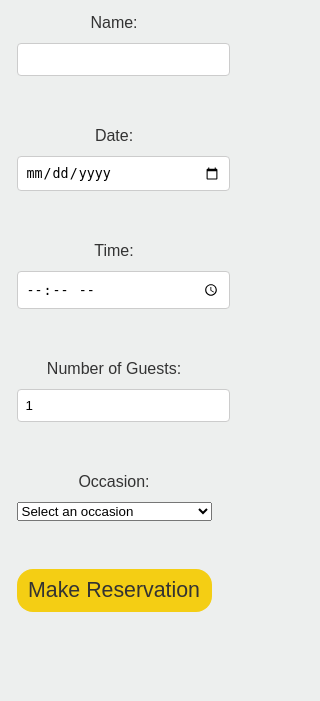
Scenario: ReservationForm › validates form submission with empty fields
The width and height of the screenshot is (320, 701).
Click the button "Make Reservation" at [114, 591], box x1=16 y1=569 x2=212 y2=612
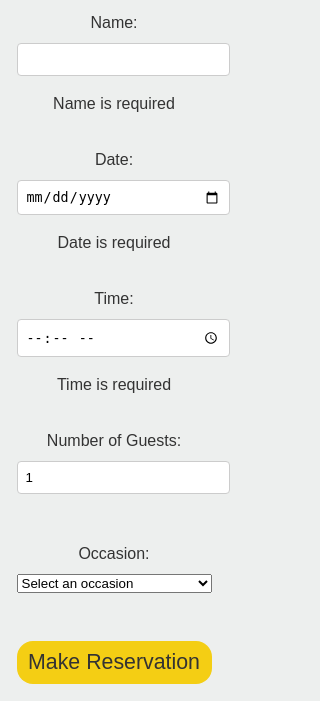
Result: the text "Name is required" is shown at x1=53 y1=95 x2=175 y2=112
Result: the text "Date is required" is shown at x1=58 y1=234 x2=170 y2=251
Result: the text "Time is required" is shown at x1=57 y1=376 x2=171 y2=393
